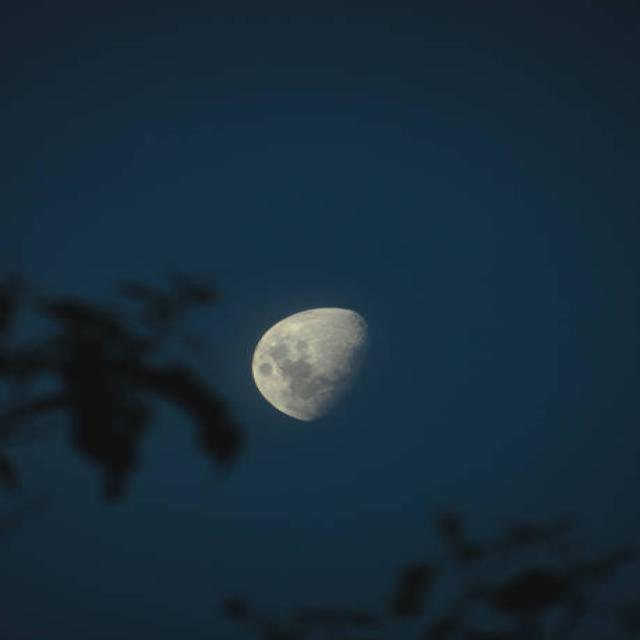moon: (236, 289, 404, 432)
